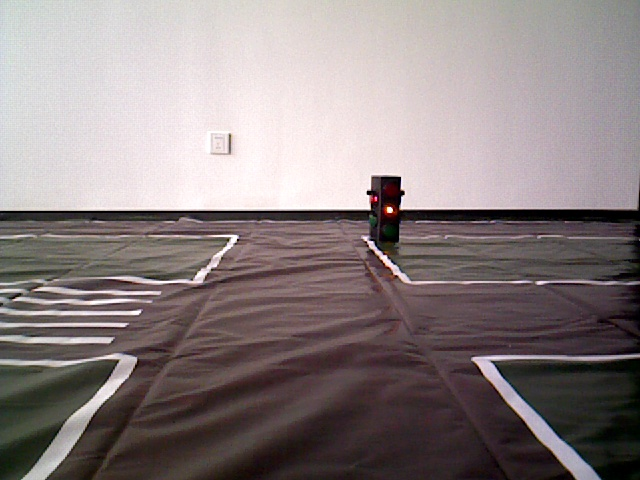yellow: (368, 175, 402, 242)
